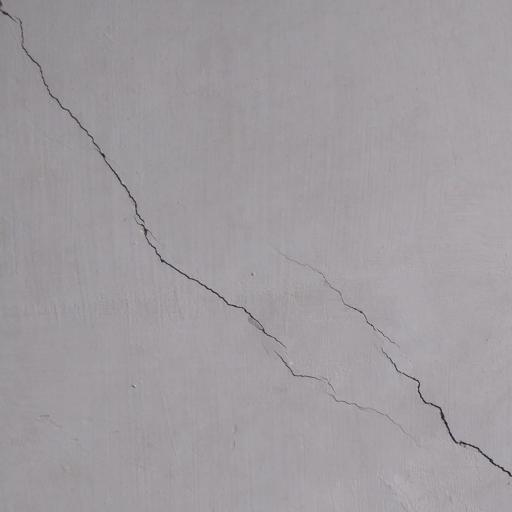major_crack: (0, 0, 512, 492)
